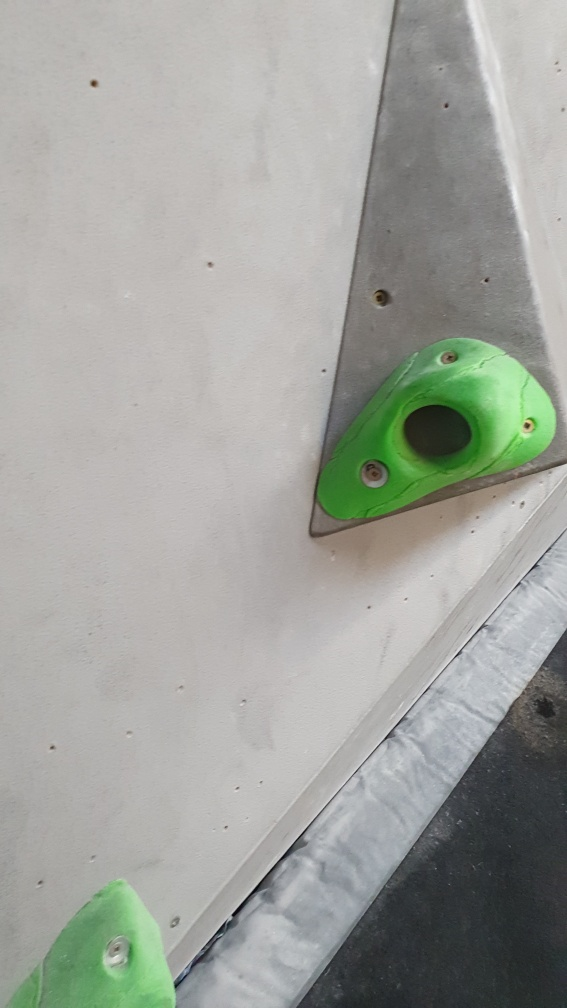Pocket: (314, 337, 559, 525)
